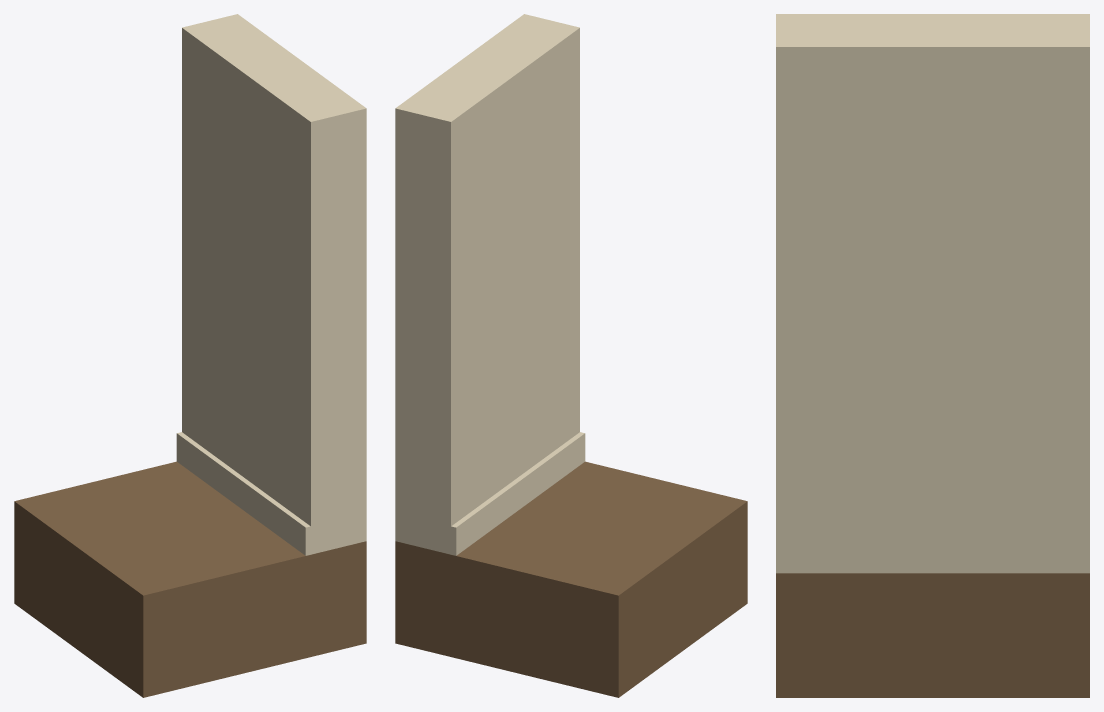
File: EdgeWall.fbx
The picture shows the model from 3 angles, left to right: view 1: azimuth 30°, elevation 25°; view 2: azimuth 150°, elevation 25°; view 3: azimuth 270°, elevation 25°; orthographic projection. The views are drawn at different scales.
Visible parts, largest first — view 1: EdgeWall; view 2: EdgeWall; view 3: EdgeWall.
Part boxes in pixels (x1,y1,x2,y2): EdgeWall: (14, 14, 366, 697); EdgeWall: (395, 14, 747, 697); EdgeWall: (776, 14, 1089, 697).
Size of the model in its own units: 200 by 458 by 200.
